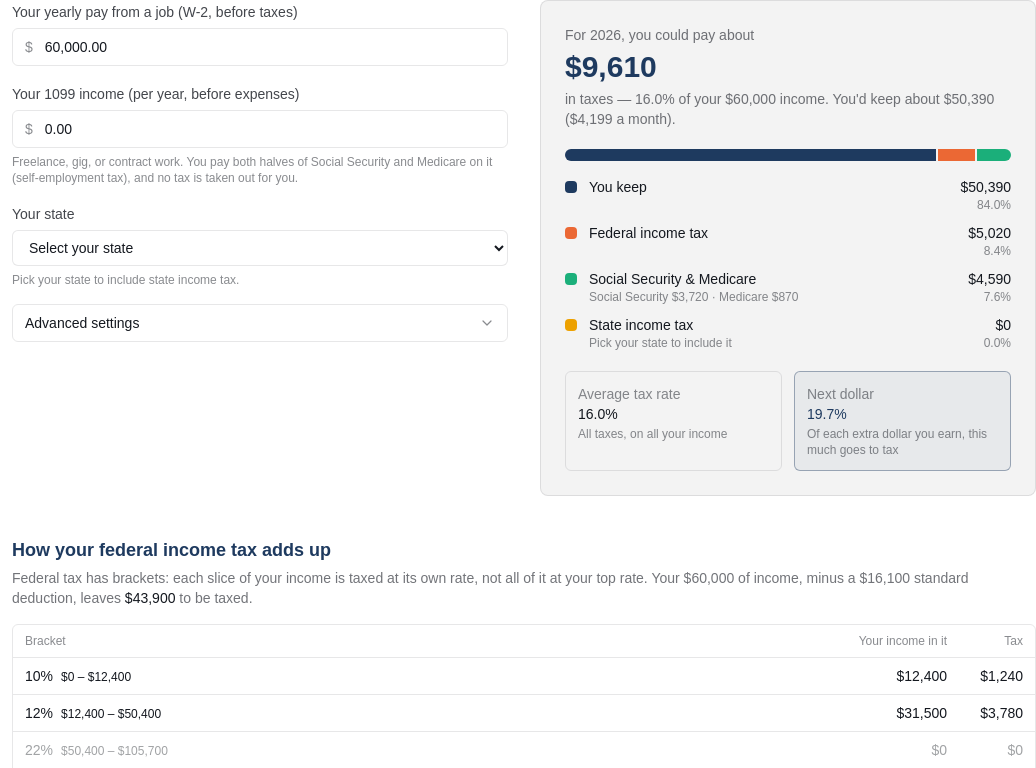
Test: Income Tax Calculator › asks which county in Maryland and adds that county's tax
This screenshot has width=1036, height=768.
Select "Maryland" in the dropdown with id "state" at [260, 248], box [12,230,508,266]
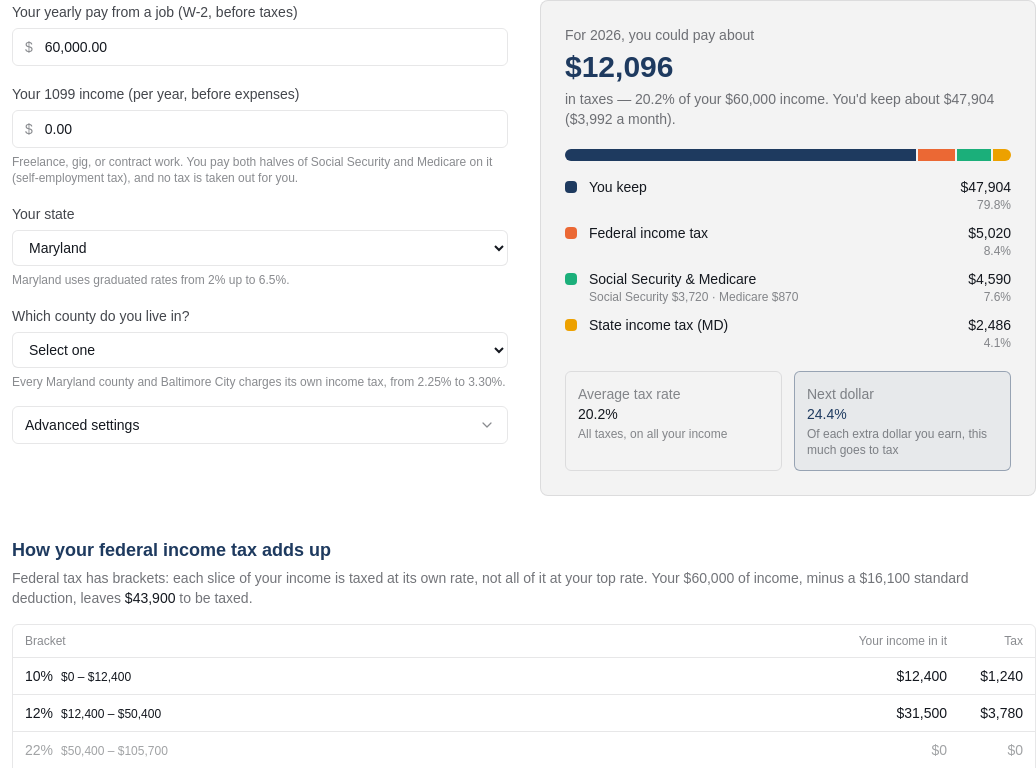
Select "Baltimore City" in the dropdown with id "local" at [260, 350], box [12,332,508,368]
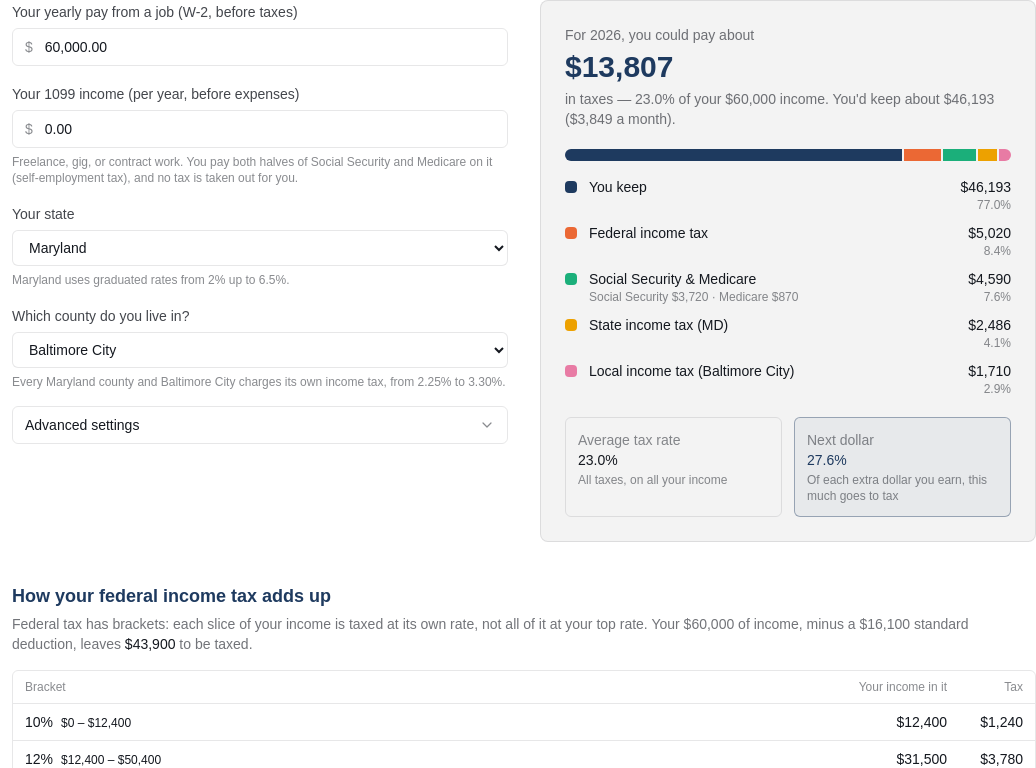
Select "Texas" in the dropdown with id "state" at [260, 248], box [12,230,508,266]
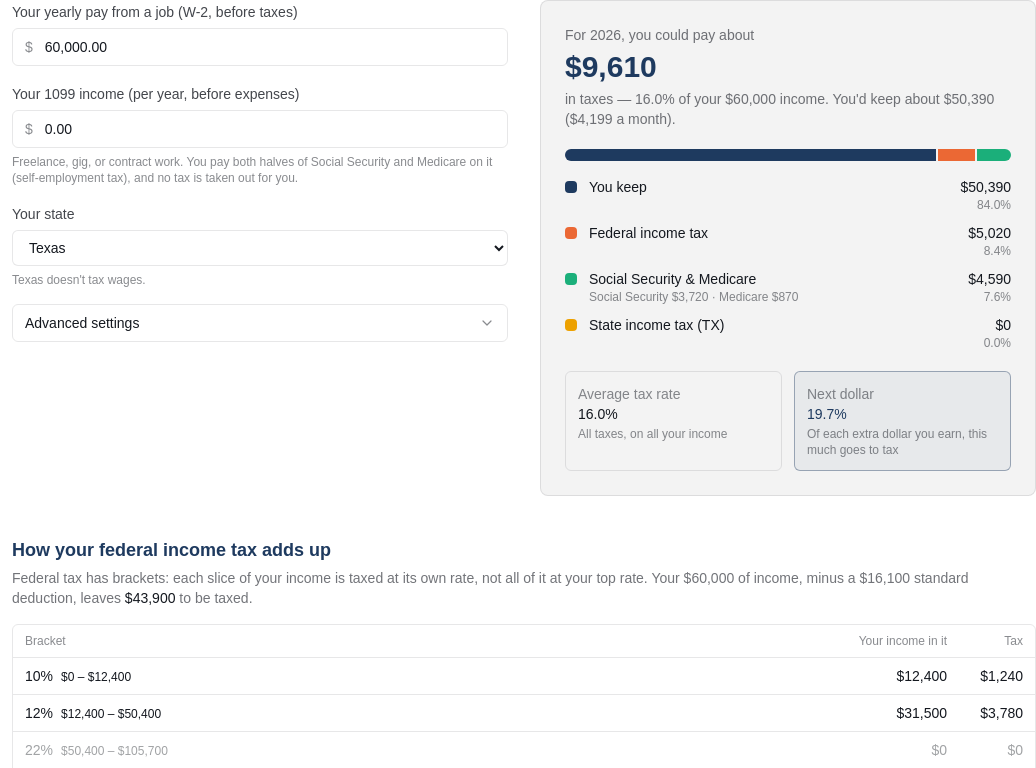
Expected: the dropdown with id "local" is gone
Expected: the text "Local income tax" is gone
